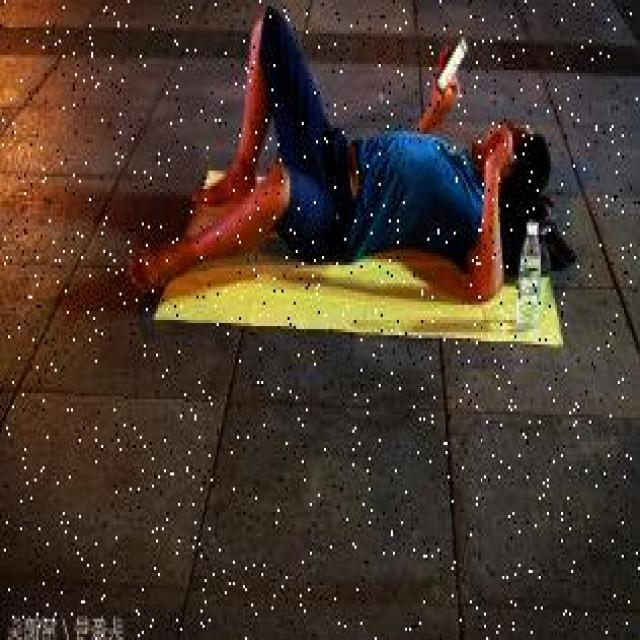fall: (140, 30, 541, 292)
